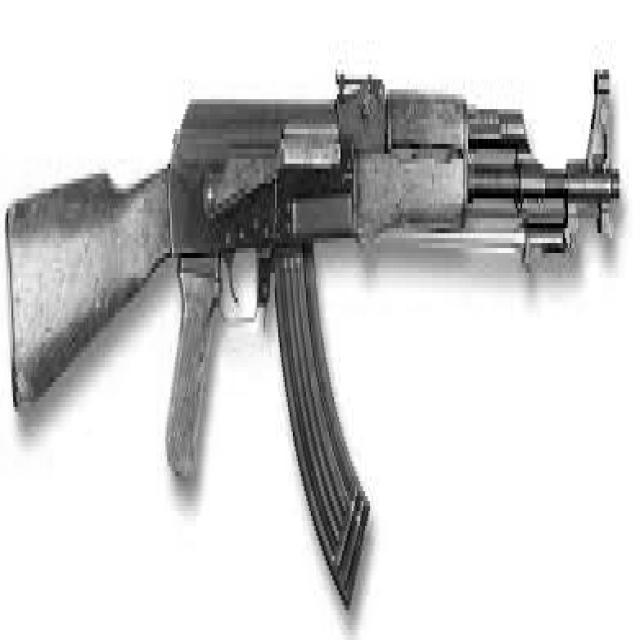gun: (3, 60, 622, 605)
